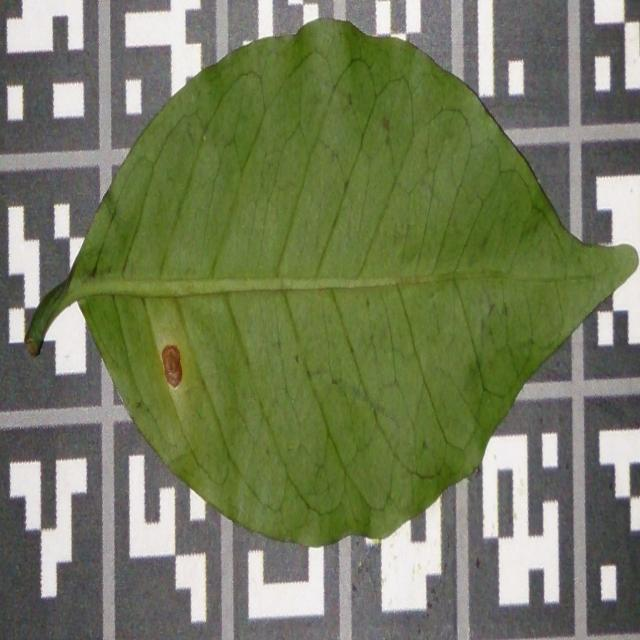Enfermedad-Mancha-de-hierro: (24, 20, 640, 549)
